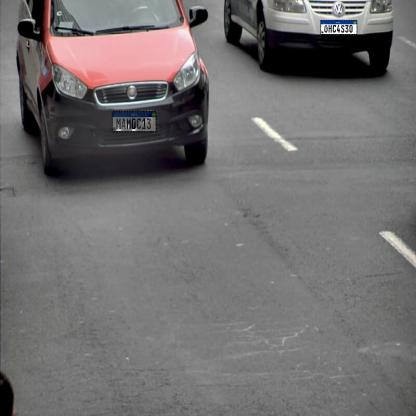PlacaM: (112, 111, 156, 132), (320, 20, 358, 35)
